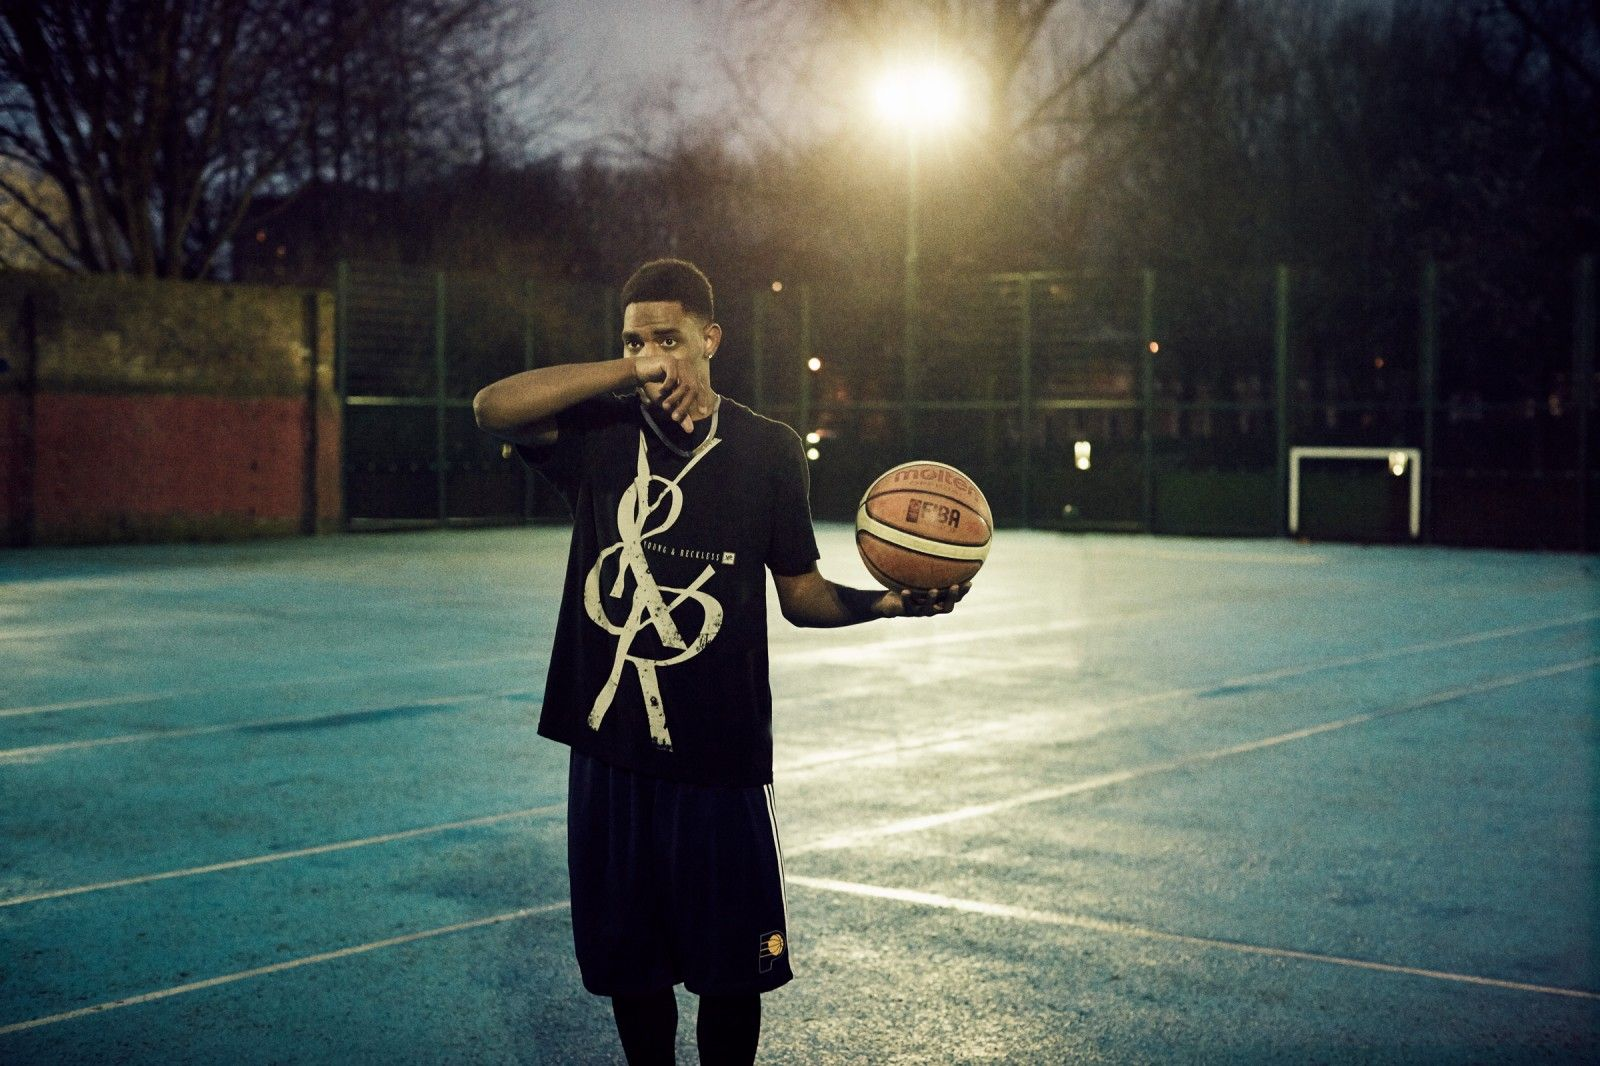b_ball: (846, 442, 998, 606)
face: (612, 249, 729, 408)
player: (470, 225, 821, 1066)
